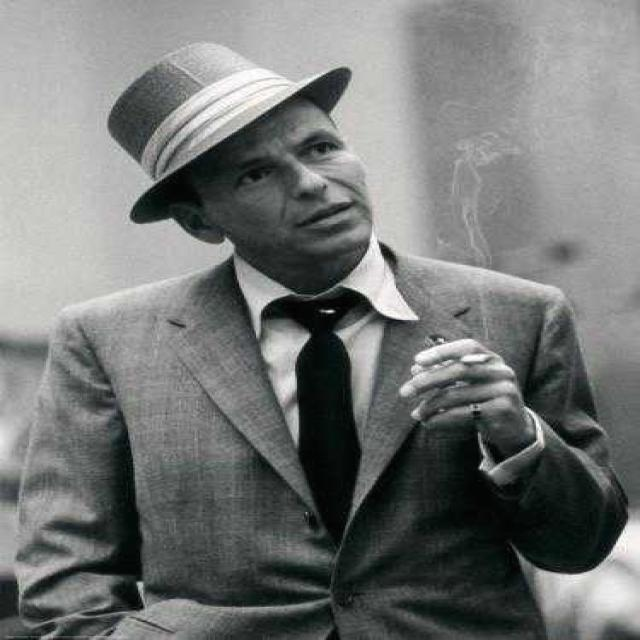Smooking: (456, 346, 512, 375)
